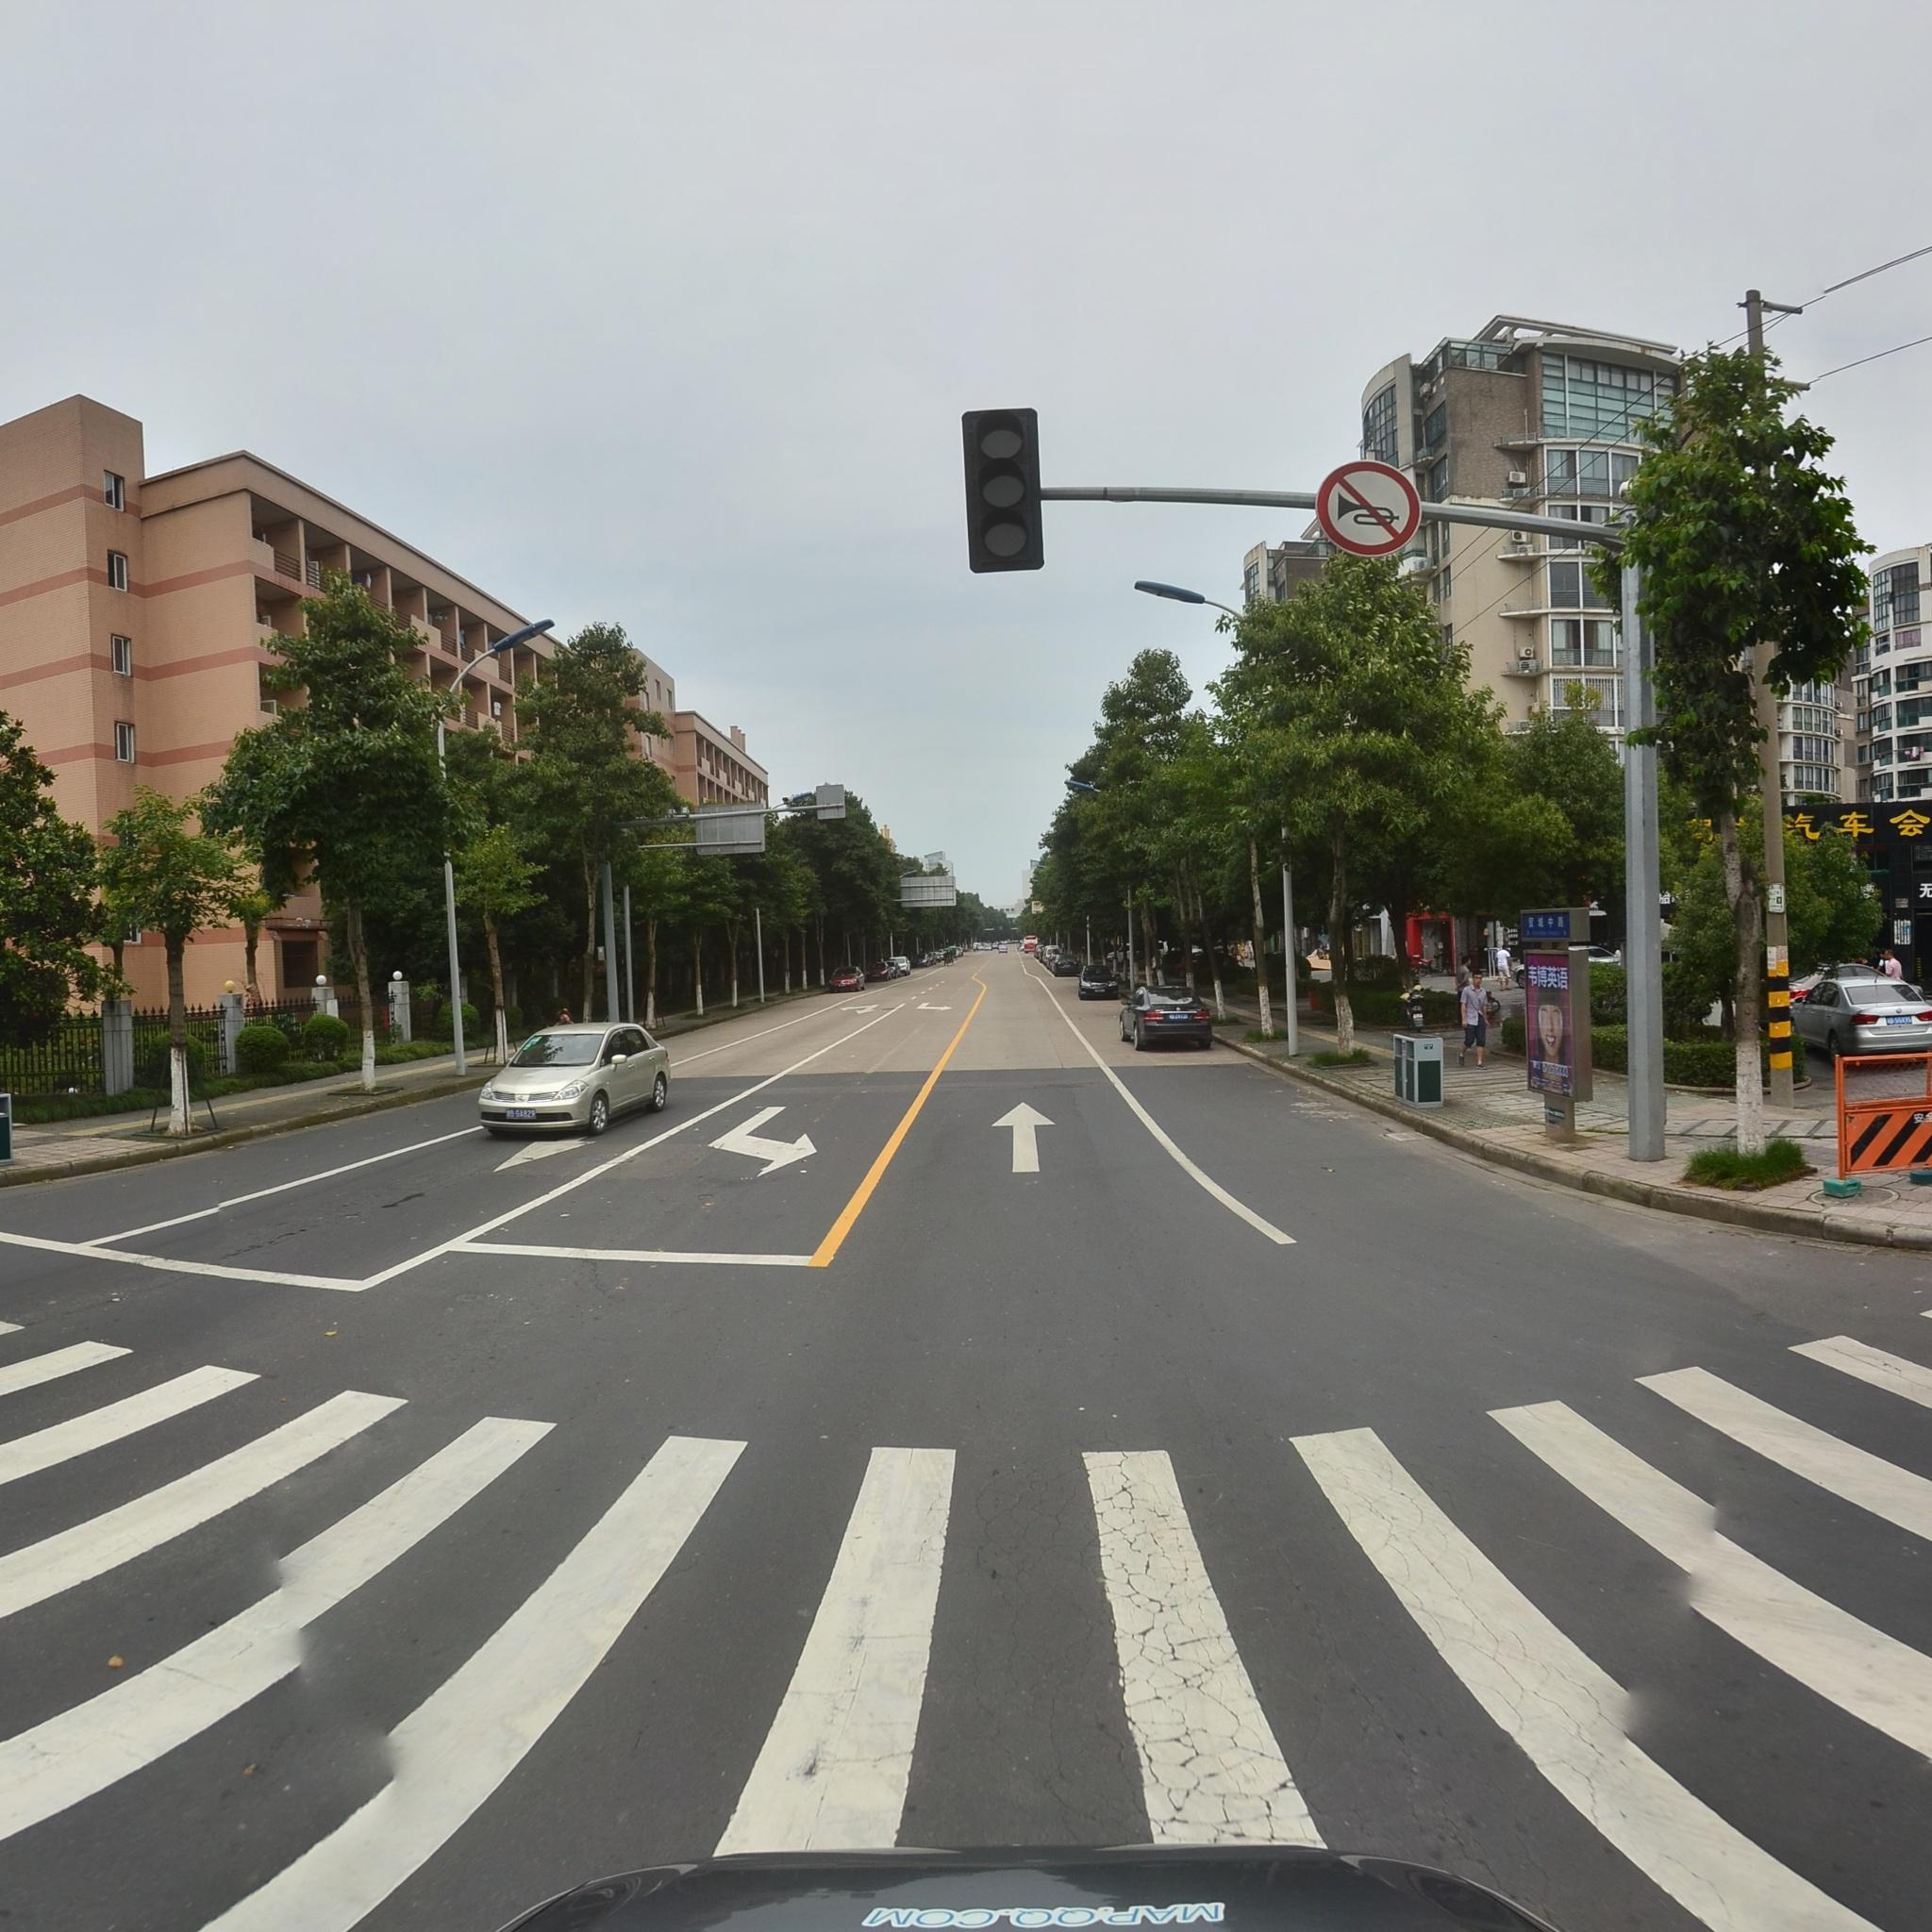p11: (1316, 458, 1414, 552)
